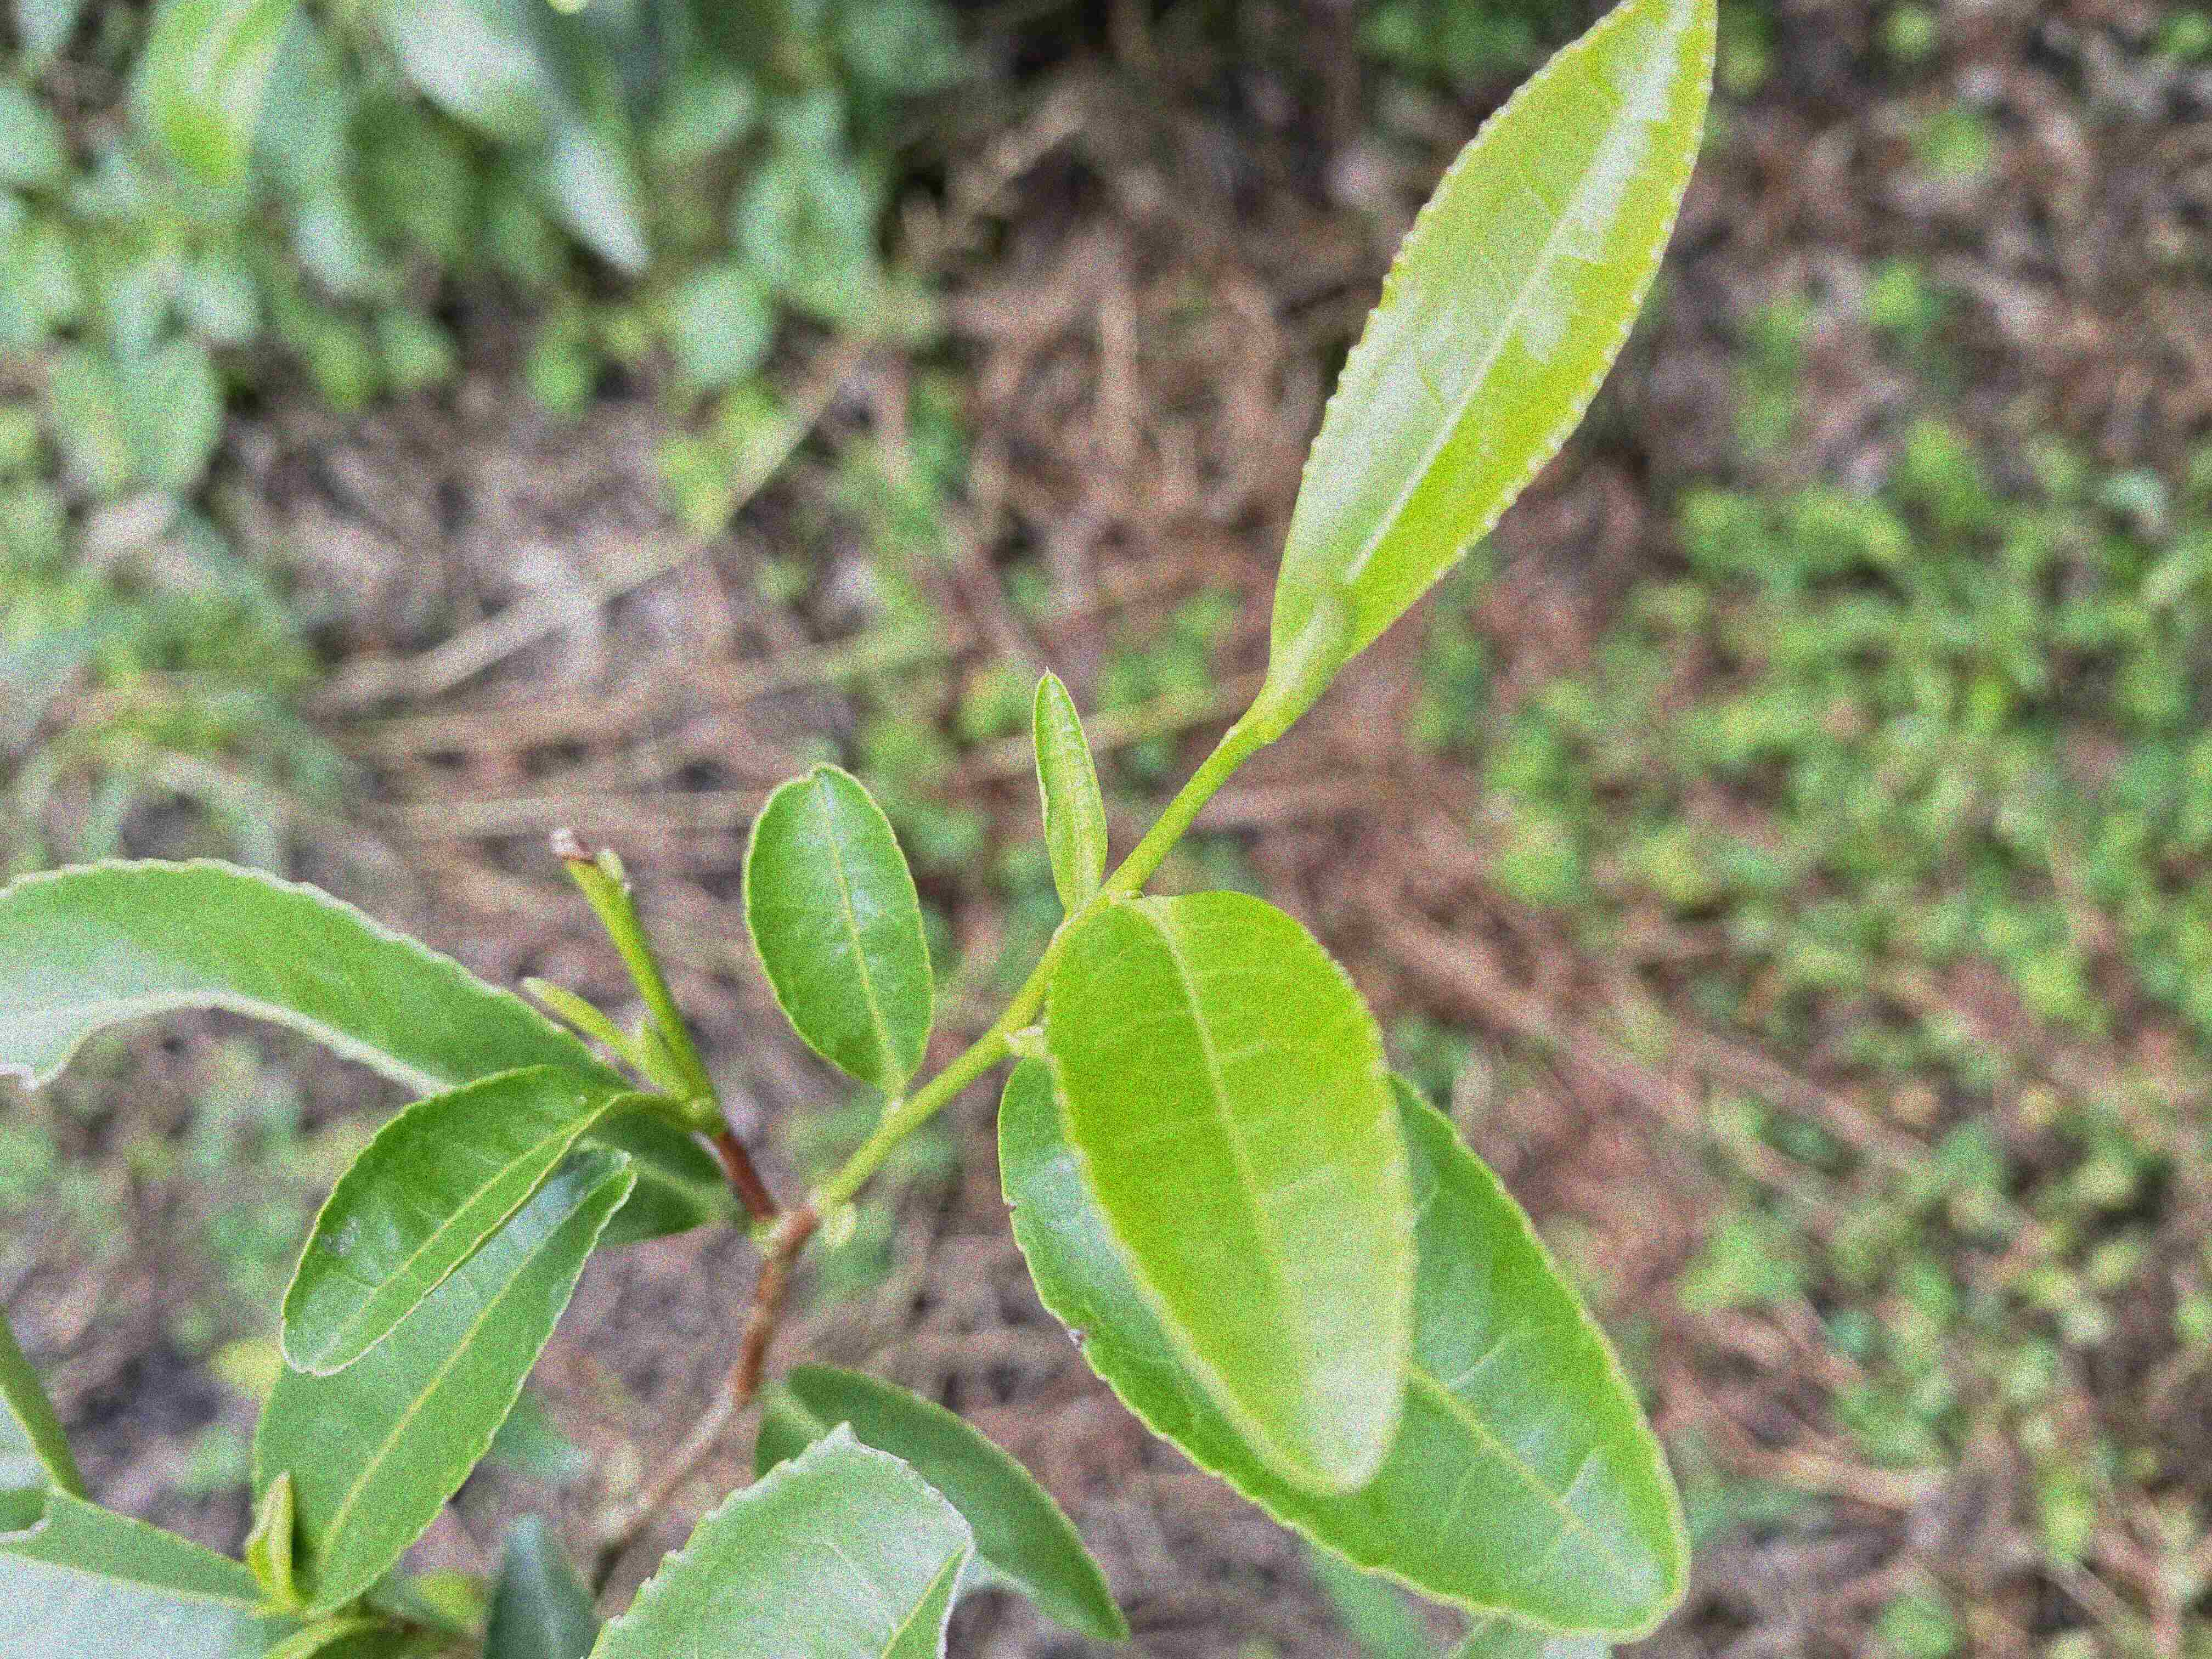healthy: (1264, 5, 1716, 676), (1042, 885, 1418, 1485), (740, 763, 934, 1087)
